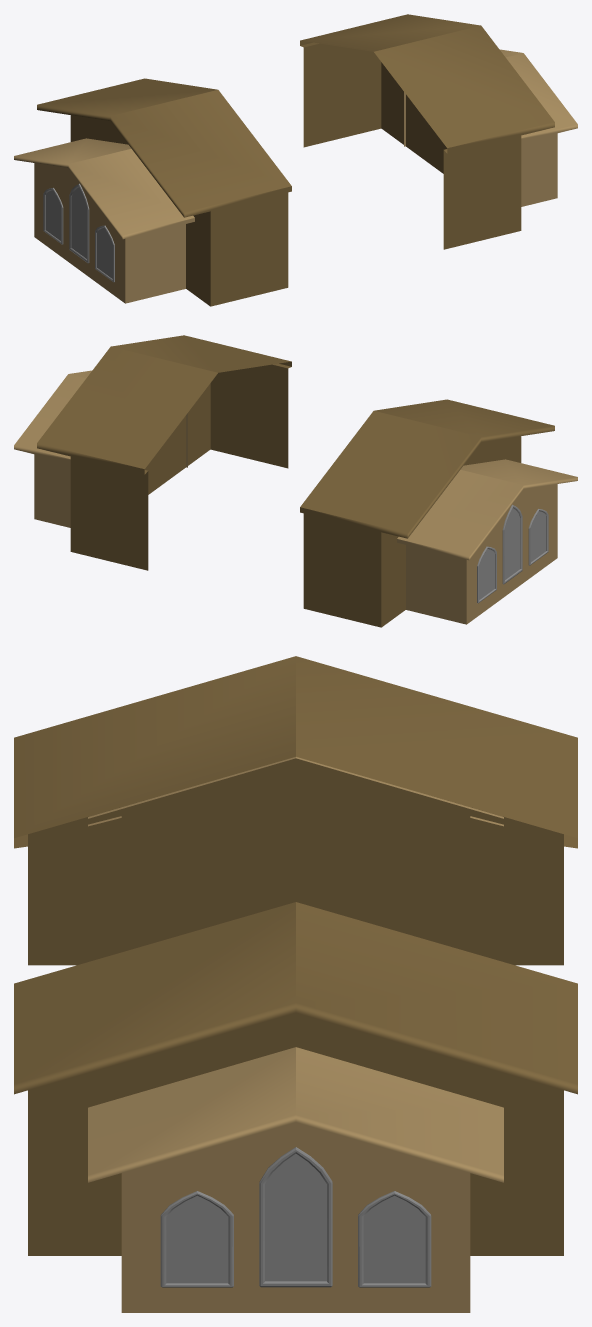
Rendered from Small_side_lower_abbeys.fbx.
3 views of the same model, one above another, from view 1: azimuth 30°, elevation 25°; view 2: azimuth 150°, elevation 25°; view 3: azimuth 270°, elevation 25° (orthographic). The views are drawn at different scales.
Visible parts, largest first — view 1: Lower_side_abbey1, Side_Small_Abbey, Curch_window7, Curch_windowSmallStainedGlass3, Curch_windowSmallStainedGlass4; view 2: Lower_side_abbey1, Side_Small_Abbey, Curch_window7, Curch_windowSmallStainedGlass4, Curch_windowSmallStainedGlass3; view 3: Lower_side_abbey1, Side_Small_Abbey, Curch_window6, Curch_windowSmallStainedGlass2, Curch_windowSmallStainedGlass1.
Boxes of the visible parts, bbox=[...] form: Lower_side_abbey1: bbox=[37, 14, 554, 306]; Side_Small_Abbey: bbox=[14, 49, 577, 303]; Curch_window7: bbox=[69, 183, 89, 263]; Curch_windowSmallStainedGlass3: bbox=[43, 188, 63, 244]; Curch_windowSmallStainedGlass4: bbox=[95, 225, 114, 282]; Lower_side_abbey1: bbox=[37, 335, 554, 627]; Side_Small_Abbey: bbox=[14, 370, 577, 624]; Curch_window7: bbox=[502, 504, 522, 584]; Curch_windowSmallStainedGlass4: bbox=[528, 509, 548, 565]; Curch_windowSmallStainedGlass3: bbox=[477, 546, 496, 603]; Lower_side_abbey1: bbox=[14, 656, 577, 1255]; Side_Small_Abbey: bbox=[88, 757, 503, 1312]; Curch_window6: bbox=[259, 1147, 332, 1287]; Curch_windowSmallStainedGlass2: bbox=[358, 1191, 431, 1287]; Curch_windowSmallStainedGlass1: bbox=[160, 1191, 233, 1287].
Bounding box in the file's own units: 65.36 × 20.14 × 36.58.
